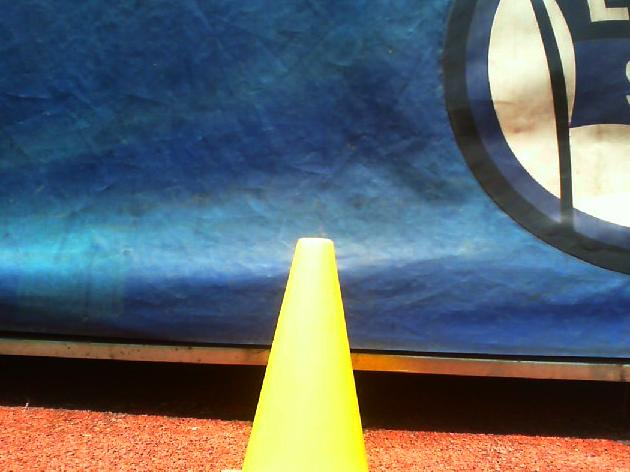0 cone: (221, 238, 370, 472)
